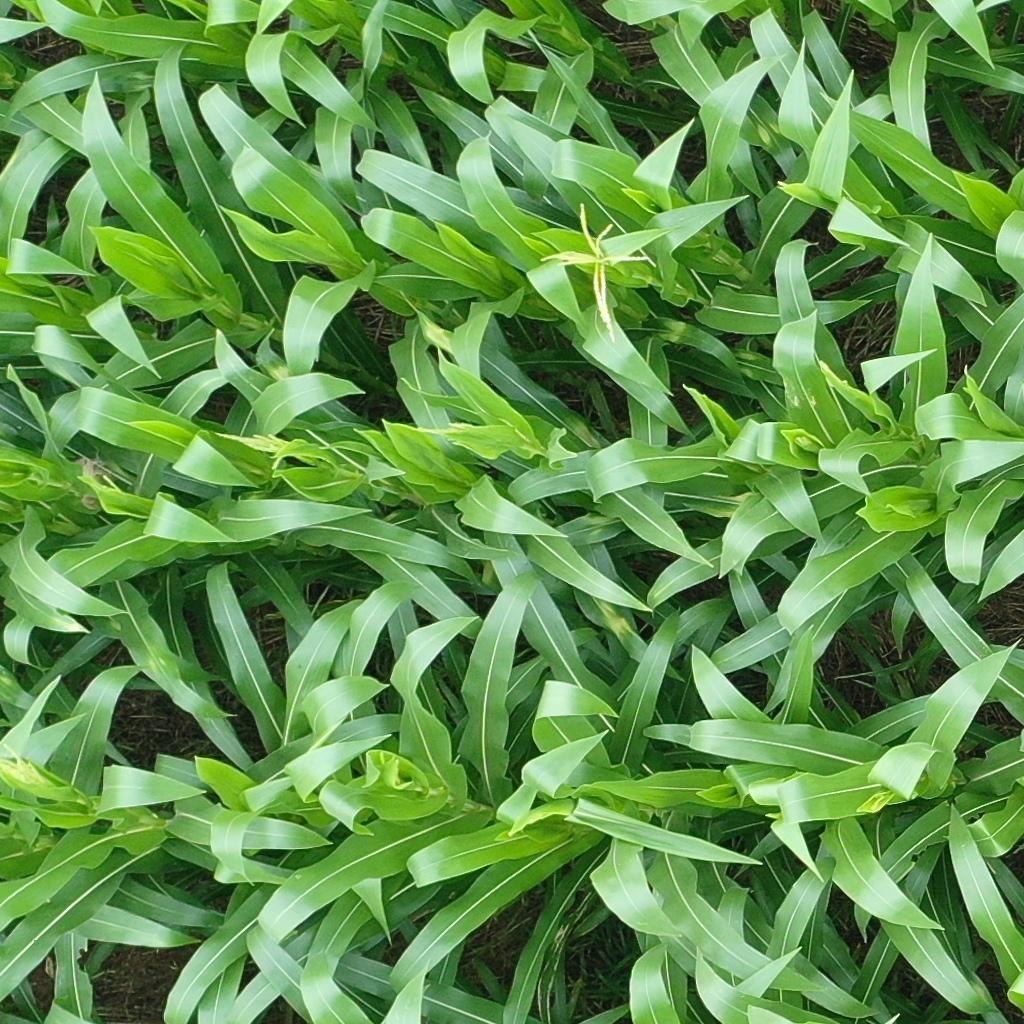Tassel: (542, 200, 659, 341), (211, 428, 297, 474), (1, 740, 56, 796), (75, 471, 131, 502), (413, 418, 481, 442), (814, 359, 848, 391)
